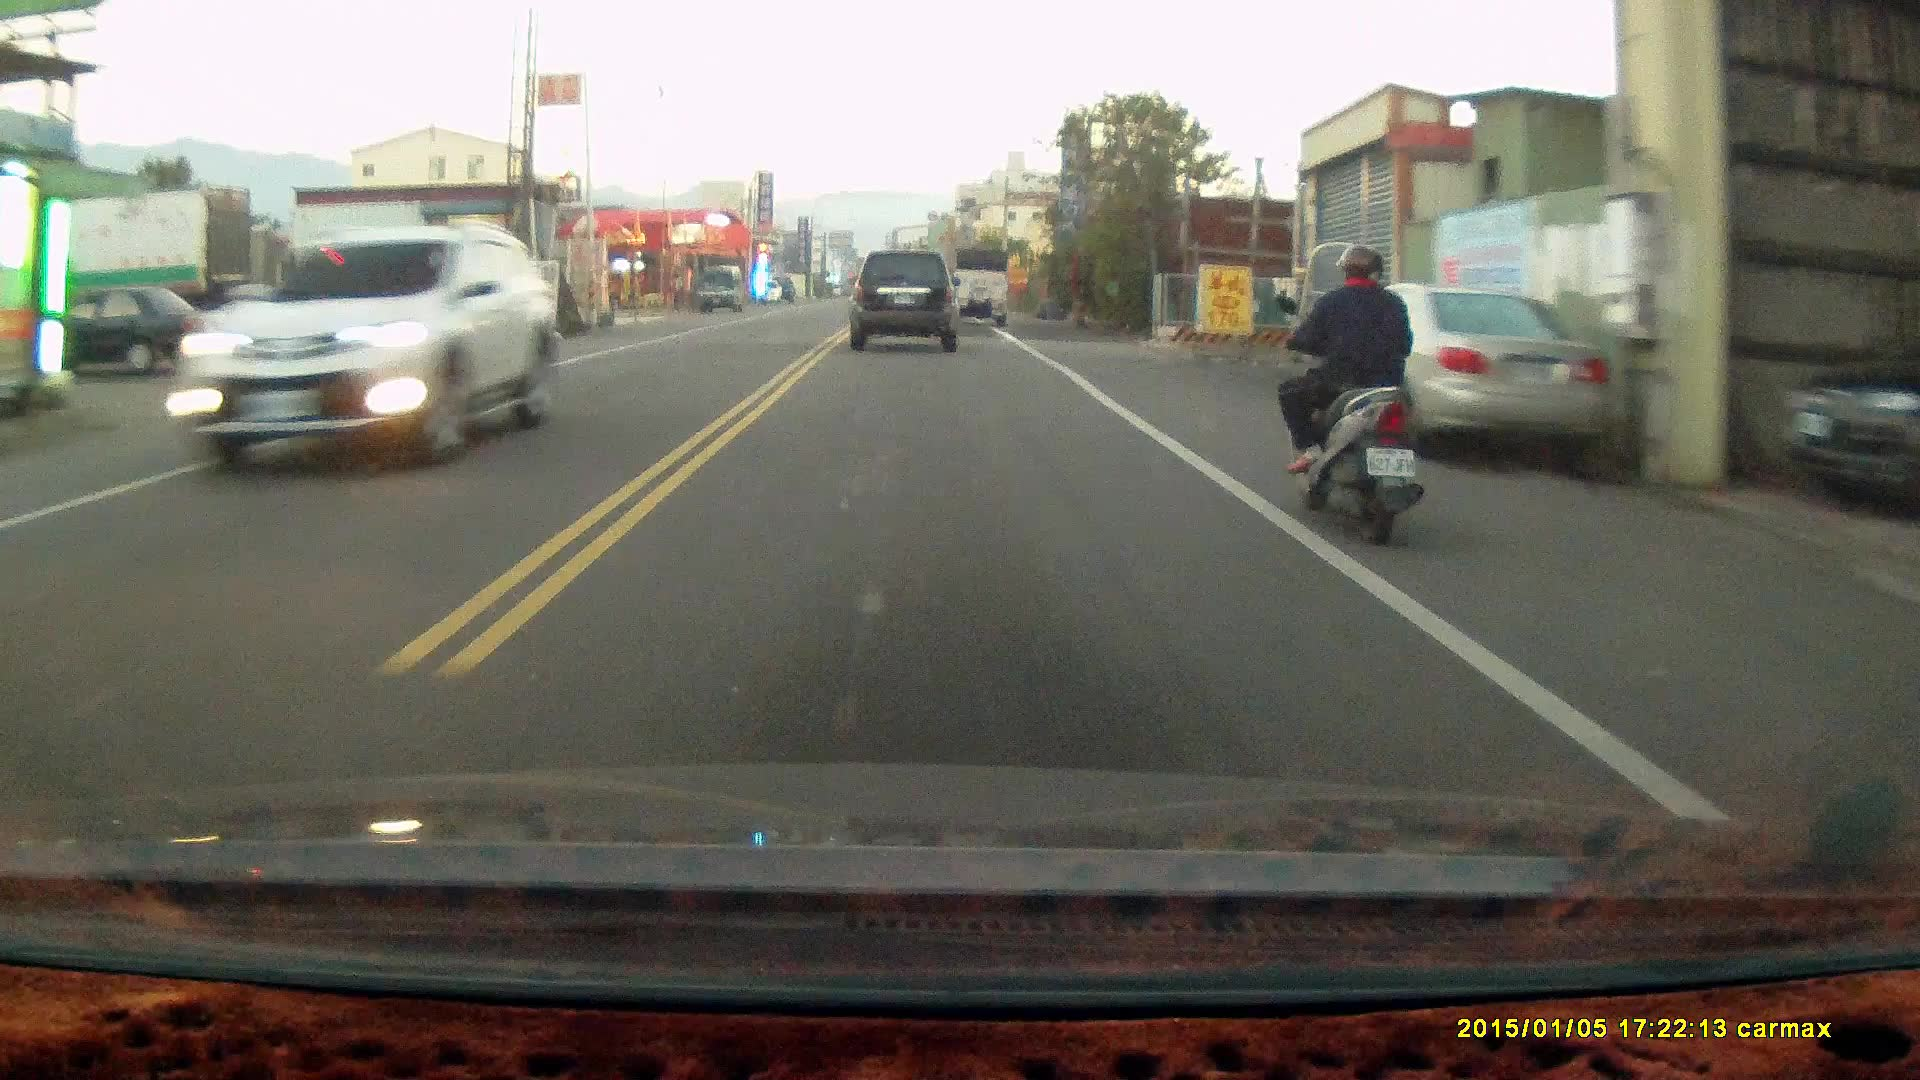rider: (1273, 242, 1422, 547)
vehicle: (162, 227, 553, 477), (1301, 283, 1610, 467), (1775, 293, 1920, 515), (61, 282, 228, 380), (850, 250, 963, 355), (951, 247, 1013, 327)
